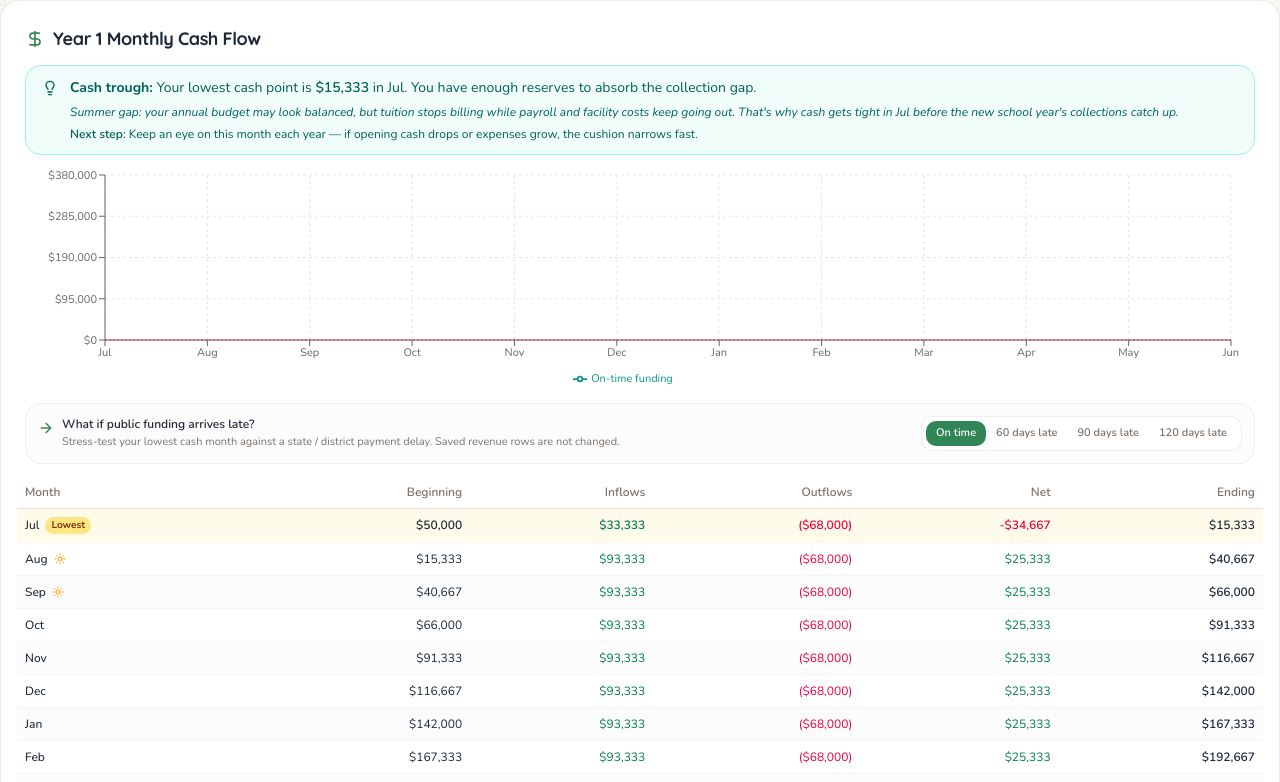
Test: Task #705 — CashFlowSubsection rendering › re-renders the trough when delayed-funding scenario is selected
Click the radio button with test id "delayed-funding-option-90" at (1108, 433), box [1068, 421, 1149, 446]
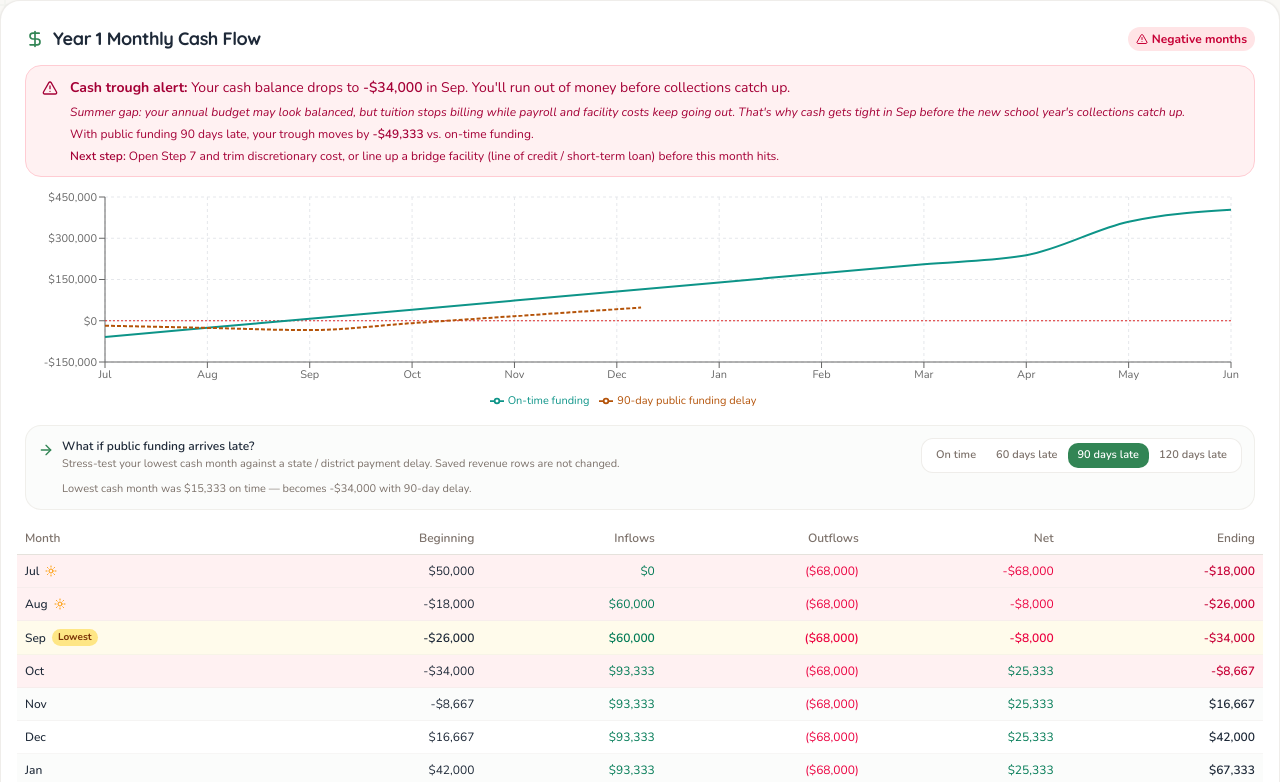
Now the element with test id "delayed-funding-impact" is shown, box [70, 126, 534, 142]
Now the text with test id "delayed-funding-readout" is shown, box [62, 480, 472, 496]
